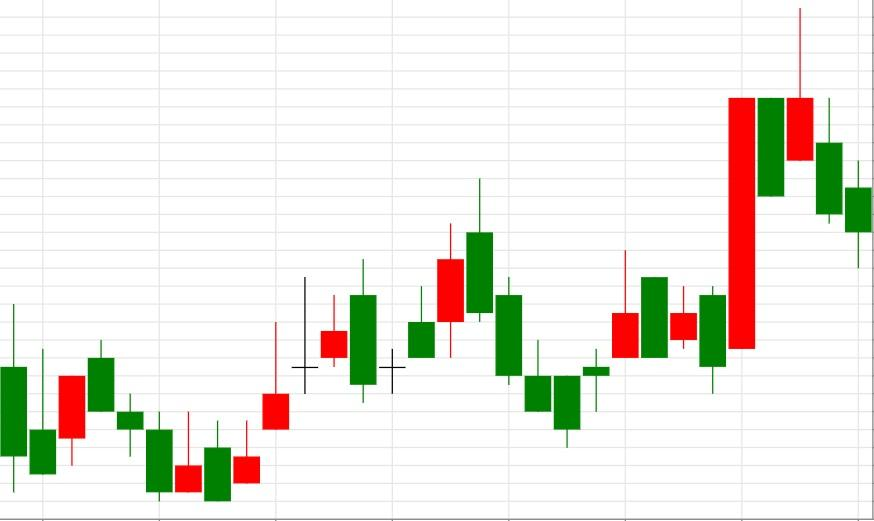bearish_engulfing_fall: (204, 258, 377, 502)
three_black_crows_fall: (28, 340, 174, 501)
